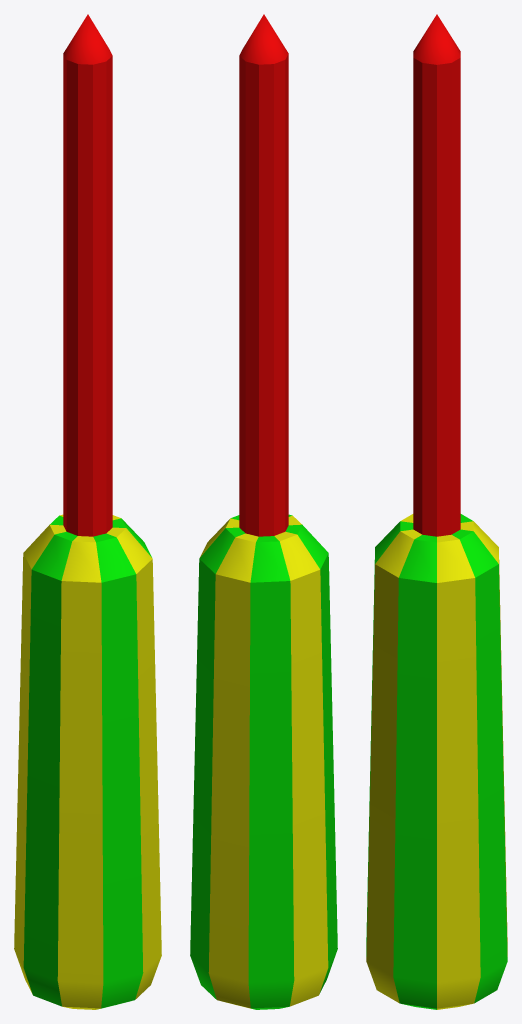
The model's file is ScrewDriverA.fbx.
3 renders of one model, left to right at view 1: azimuth 30°, elevation 25°; view 2: azimuth 150°, elevation 25°; view 3: azimuth 270°, elevation 25°, orthographic.
Parts seen in each view (by area): view 1: pCylinder10; view 2: pCylinder10; view 3: pCylinder10.
Part boxes in pixels (x1,y1,x2,y2): pCylinder10: (14, 14, 161, 1009); pCylinder10: (190, 14, 337, 1009); pCylinder10: (366, 14, 507, 1009).
Bounding box in the file's own units: 0.575 × 4.19 × 0.5469.
